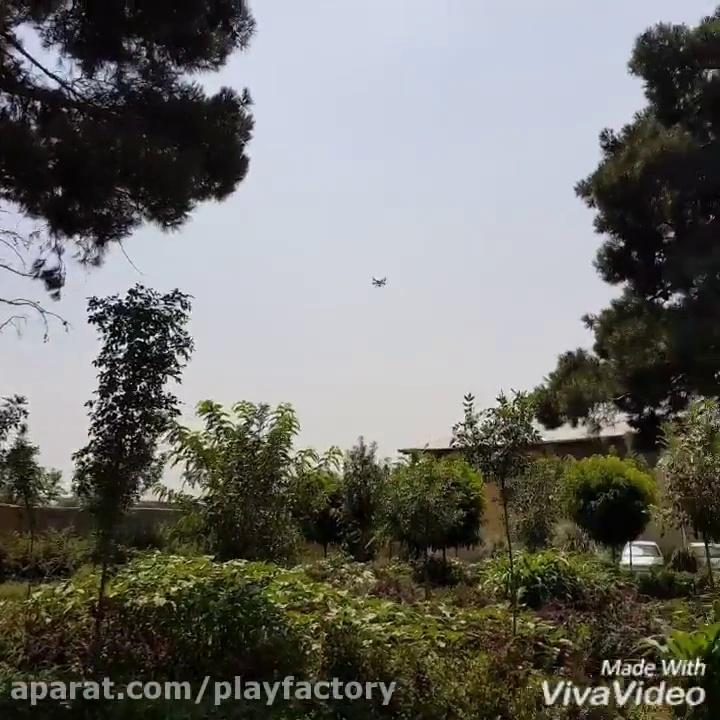drone: (362, 266, 396, 293)
